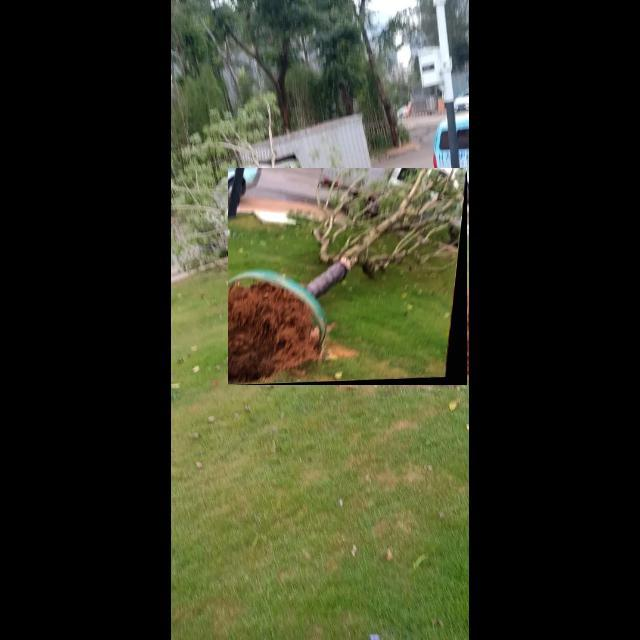fallen_tree: (228, 168, 468, 386)
